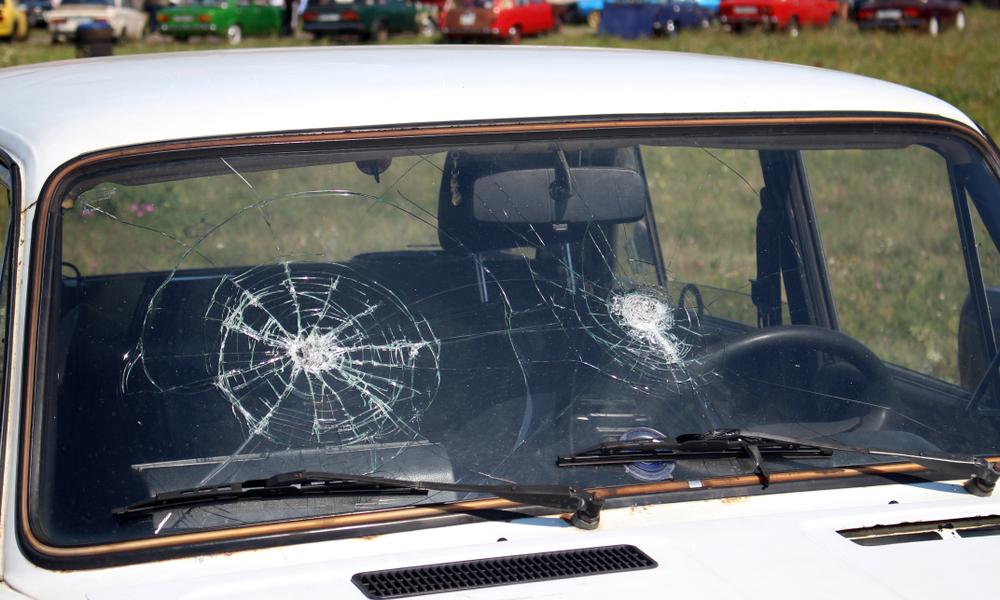glass shatter: (39, 127, 1000, 546)
